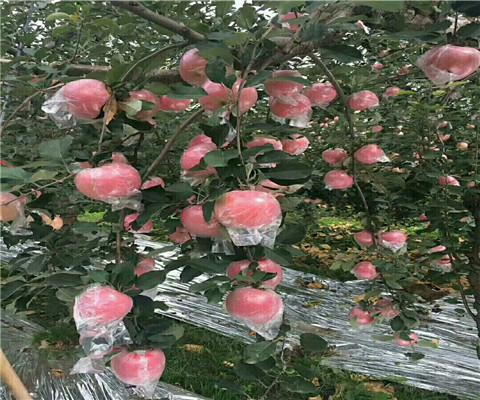apple: (213, 189, 279, 230), (74, 162, 140, 203), (52, 79, 110, 120), (200, 76, 256, 117), (74, 287, 132, 325), (225, 286, 281, 322), (110, 348, 164, 385), (422, 45, 479, 80), (179, 205, 224, 239), (227, 259, 283, 285), (178, 142, 218, 174), (180, 47, 211, 84), (270, 94, 312, 119), (354, 144, 387, 165), (324, 170, 352, 188), (350, 91, 378, 109)
